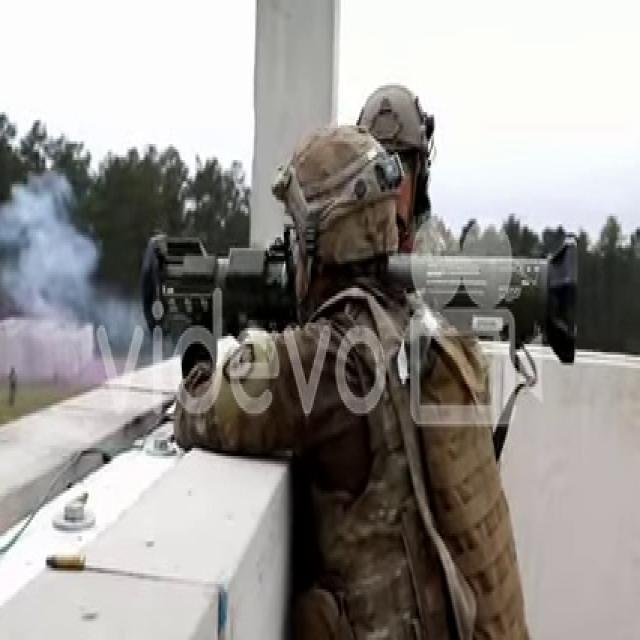bazooka: (142, 230, 587, 382)
